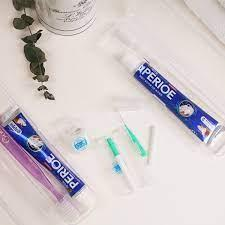toothpaste: (122, 45, 225, 155), (0, 103, 94, 211)
